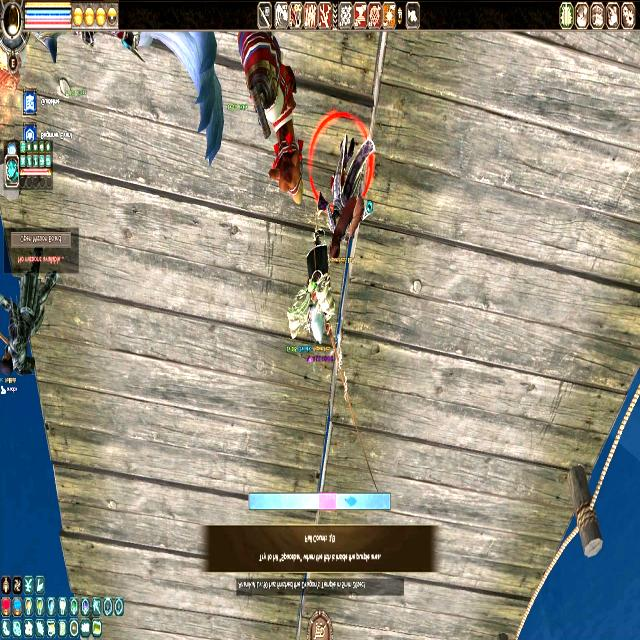fishes: (345, 495, 357, 509)
